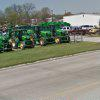Tractor: (5, 13, 75, 49)
